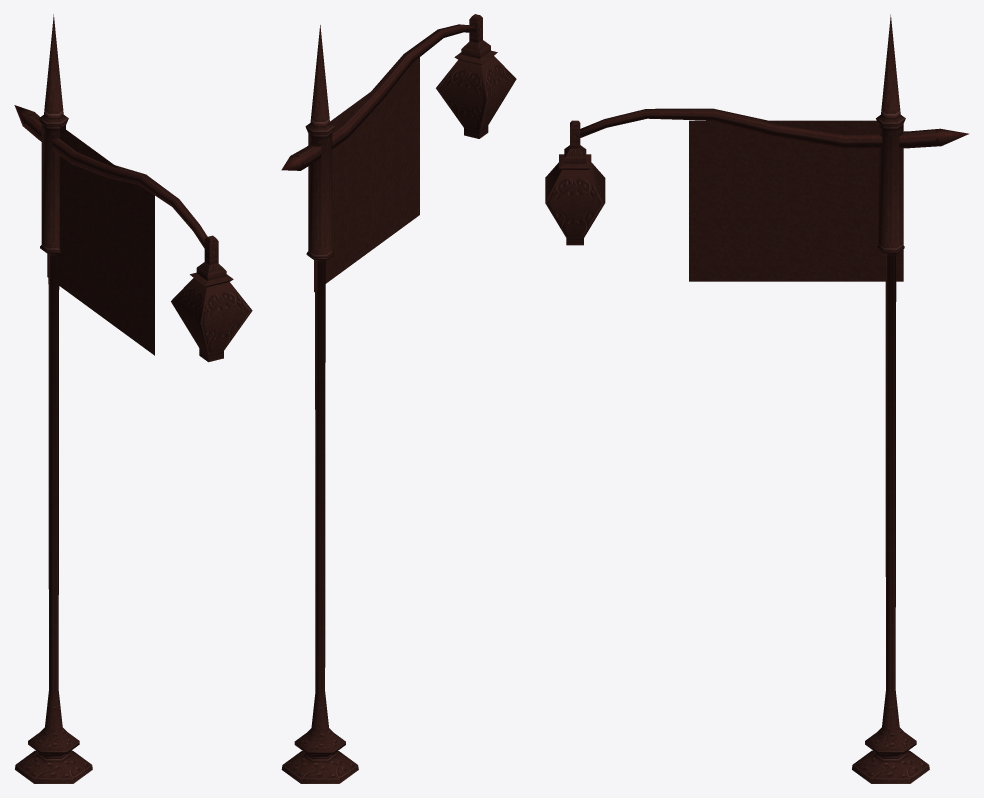
Rendered from streetlight_02.fbx.
3 views of the same model, side by side, from view 1: azimuth 30°, elevation 25°; view 2: azimuth 150°, elevation 25°; view 3: azimuth 270°, elevation 25° (orthographic).
Parts seen in each view (by area): view 1: polySurface1; view 2: polySurface1; view 3: polySurface1.
Part boxes in pixels (box(x1,y1,x2,y2)): polySurface1: box(14, 14, 252, 783); polySurface1: box(281, 14, 516, 783); polySurface1: box(545, 14, 969, 783).
Size of the model in its own units: 7.68 by 94.57 by 48.15.
